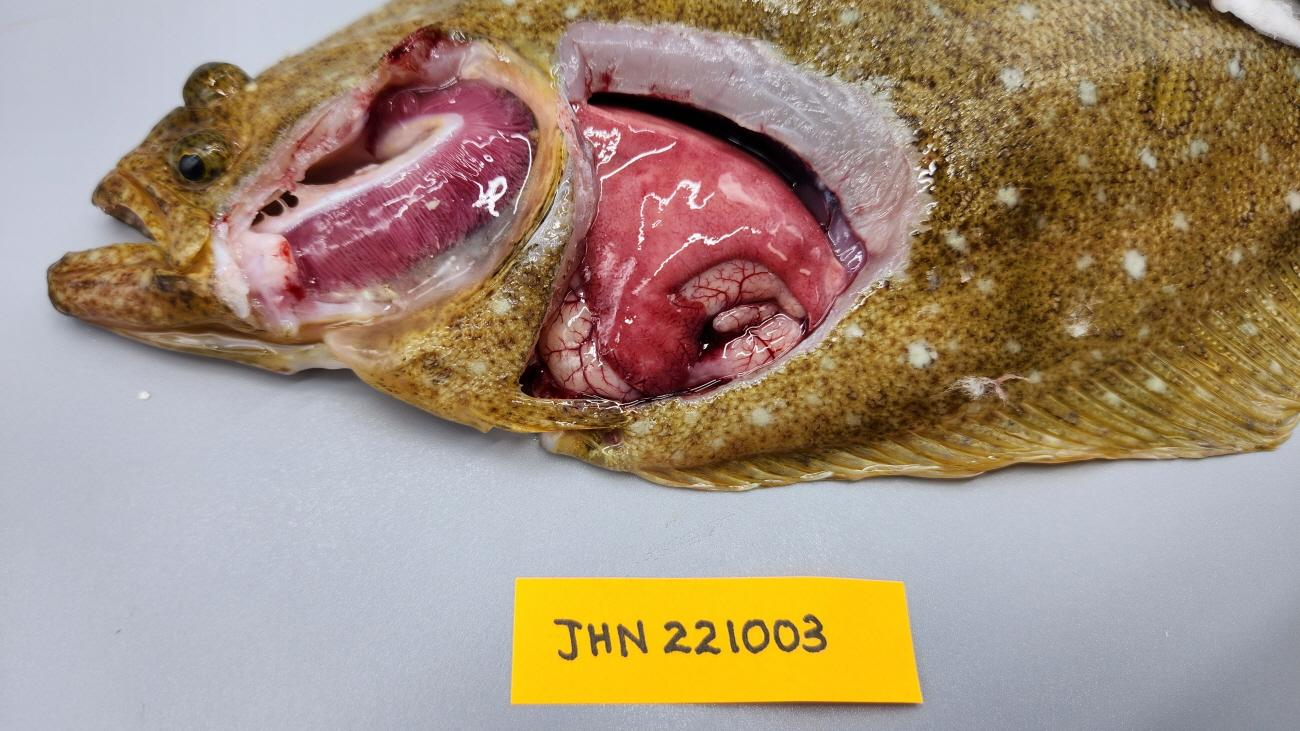VIGIP: (392, 115, 490, 236)
VILIC: (575, 103, 829, 390)
